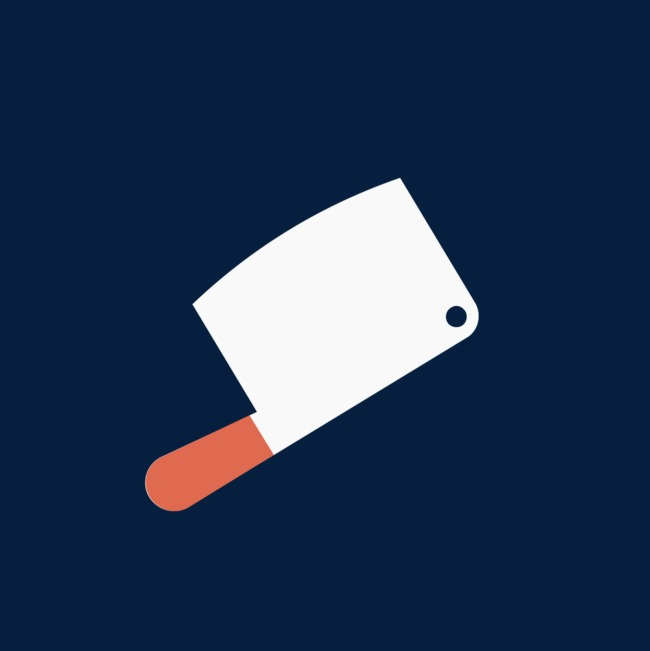knief: (149, 126, 443, 517)
